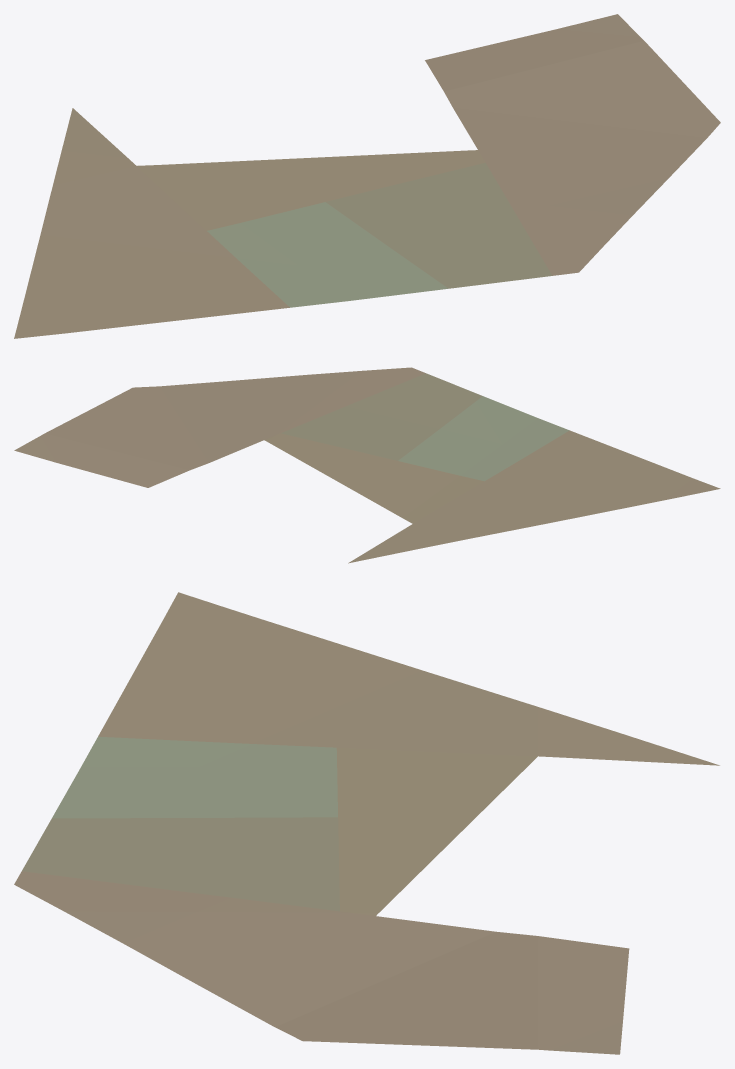
File: farm_6_12_soil.glb
The picture shows the model from 3 angles, top to bottom: view 1: azimuth 30°, elevation 25°; view 2: azimuth 150°, elevation 25°; view 3: azimuth 270°, elevation 25°; orthographic projection. The views are drawn at different scales.
Parts seen in each view (by area): view 1: geometry_0; view 2: geometry_0; view 3: geometry_0.
Part boxes in pixels (x1,y1,x2,y2): geometry_0: (14, 14, 720, 338); geometry_0: (14, 367, 720, 563); geometry_0: (14, 592, 719, 1054).
Size of the model in its own units: 254 by 2.45 by 166.
